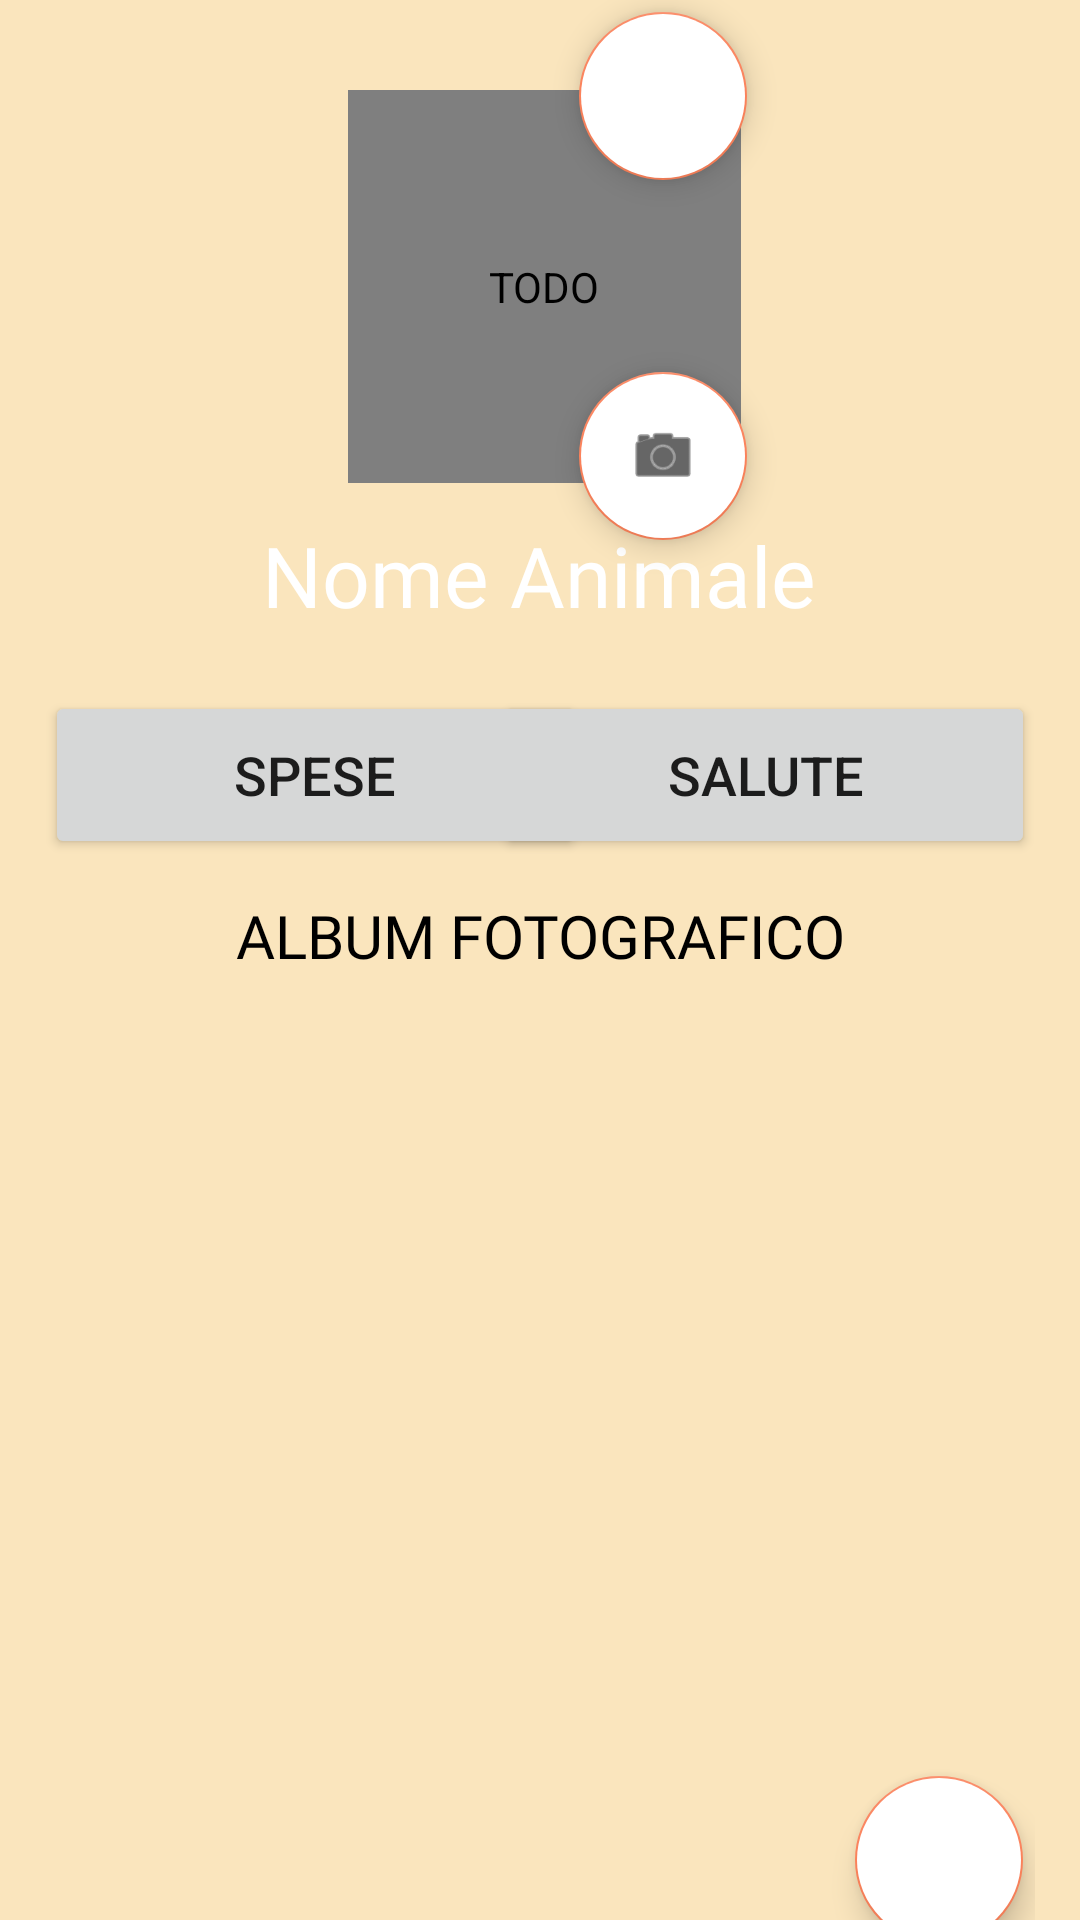

Named icons in this screenshot (1080*1920) and their centers, point (x, y):
camera: point (663, 456)
